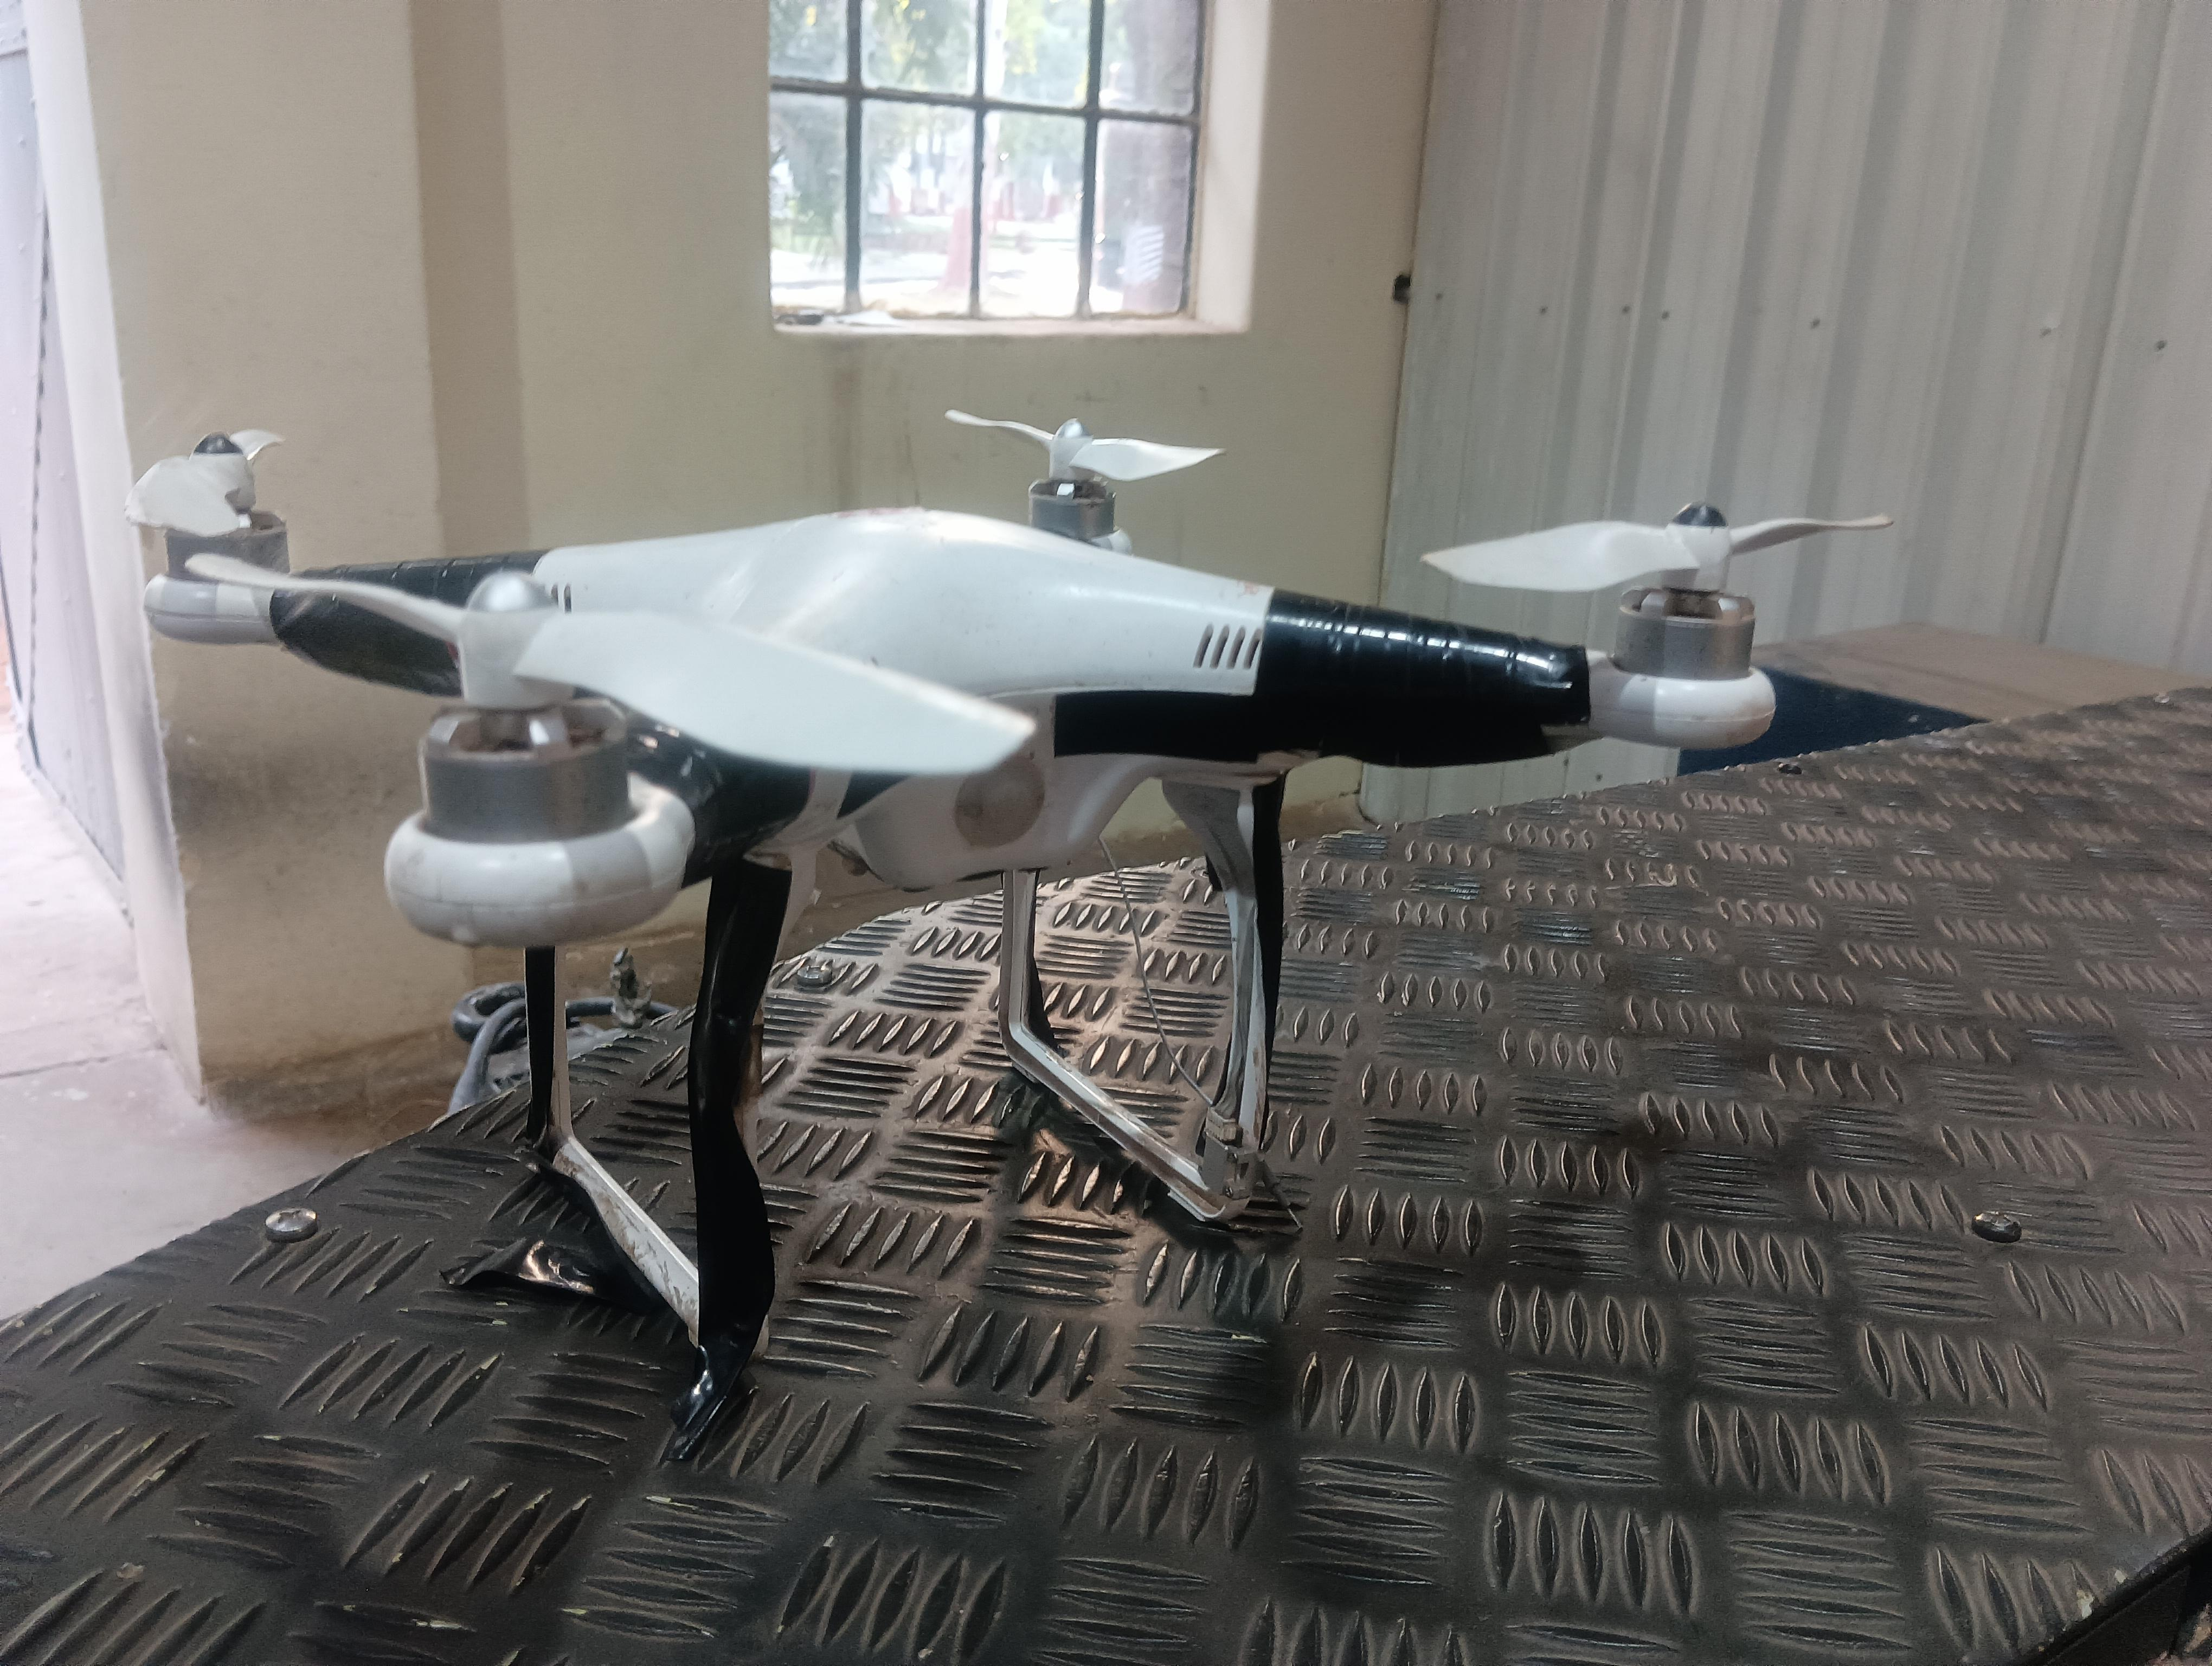drone: (107, 380, 1824, 1362)
